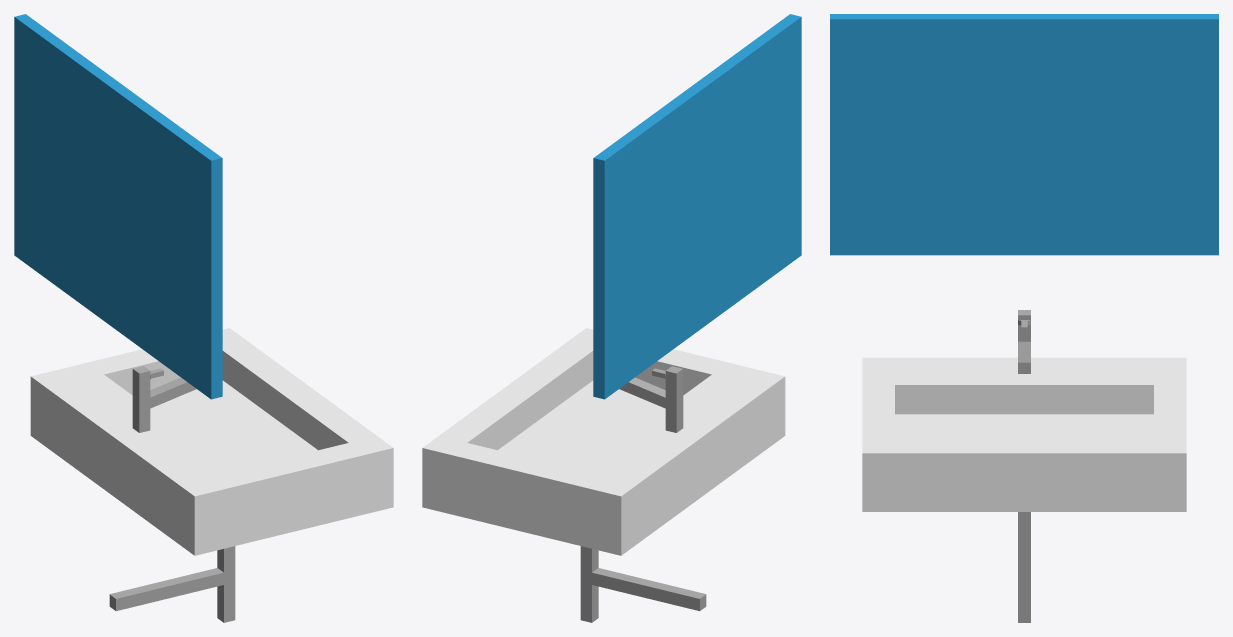
File: lavaboAndMirror__jeroverv.glb
3 renders of one model, left to right at view 1: azimuth 30°, elevation 25°; view 2: azimuth 150°, elevation 25°; view 3: azimuth 270°, elevation 25°, orthographic.
Parts seen in each view (by area): view 1: Cube; view 2: Cube; view 3: Cube.
Boxes of the visible parts, left/top/right/bottom form: Cube: left=14, top=14, right=393, bottom=622; Cube: left=422, top=14, right=801, bottom=622; Cube: left=830, top=14, right=1218, bottom=622.
Bounding box in the file's own units: 0.35 × 0.9389 × 0.6.
